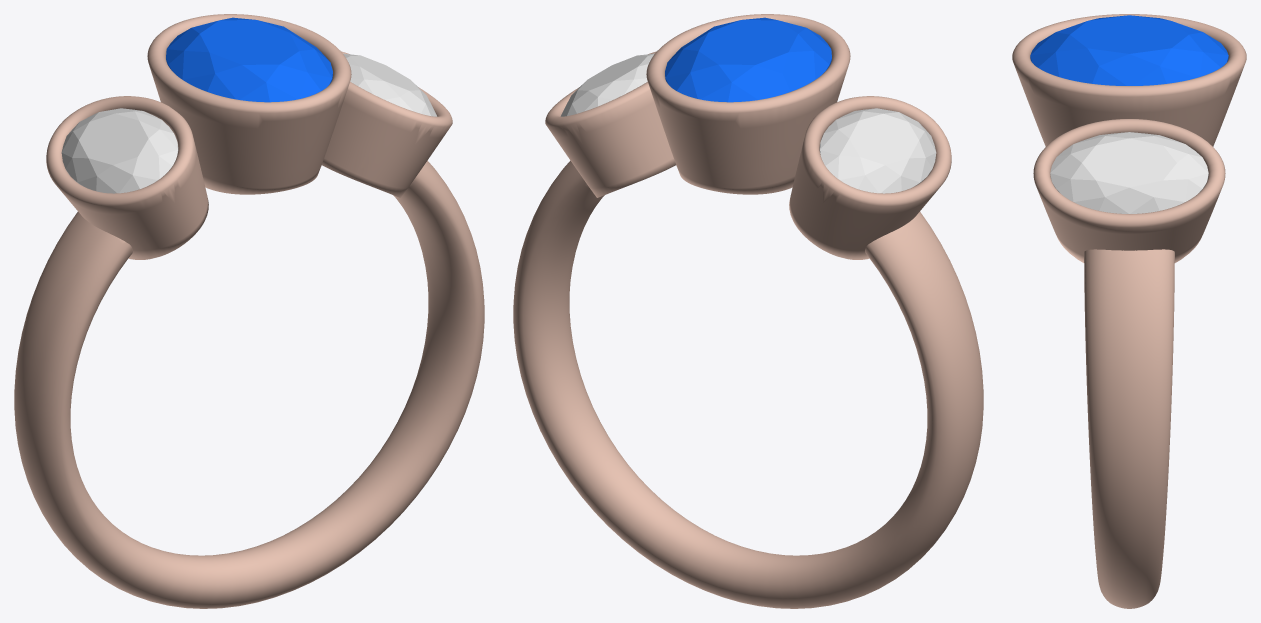
File: bluesapphire-oval-rosegold-bezelset-taperedband-3stone.glb
3 renders of one model, left to right at view 1: azimuth 30°, elevation 25°; view 2: azimuth 150°, elevation 25°; view 3: azimuth 270°, elevation 25°, orthographic.
Parts seen in each view (by area): view 1: metal, stone.002, side.004, side.005; view 2: metal, stone.002, side.004, side.005; view 3: metal, stone.002, side.005.
Part boxes in pixels (x1=…): metal: x1=14, y1=14, x2=484, y2=608; stone.002: x1=166, y1=17, x2=332, y2=102; side.004: x1=61, y1=108, x2=178, y2=193; side.005: x1=343, y1=53, x2=437, y2=116; metal: x1=513, y1=14, x2=983, y2=608; stone.002: x1=665, y1=17, x2=831, y2=102; side.004: x1=819, y1=108, x2=936, y2=193; side.005: x1=560, y1=53, x2=654, y2=116; metal: x1=1012, y1=14, x2=1246, y2=608; stone.002: x1=1030, y1=15, x2=1228, y2=85; side.005: x1=1050, y1=132, x2=1208, y2=213.
Bounding box in the file's own units: 19.89 × 23.4 × 9.04.
